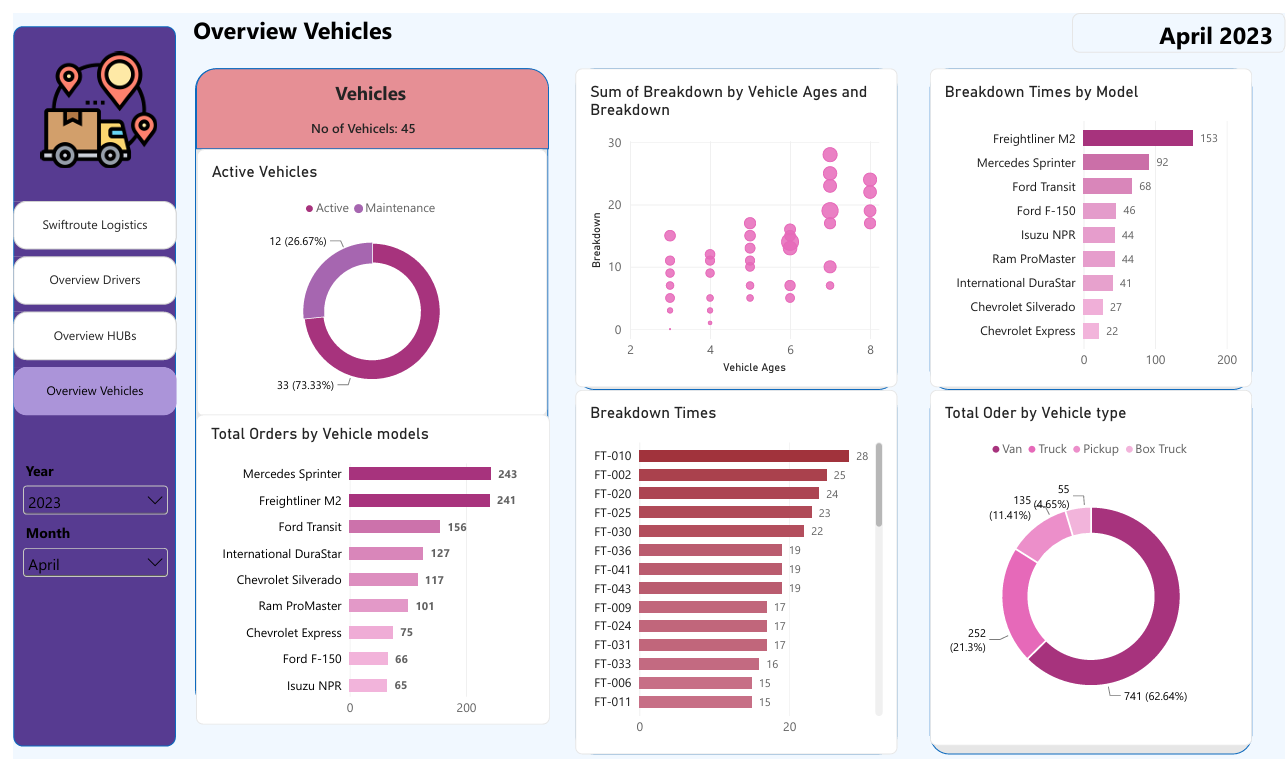

The dashboard page shown, as its layout file describes it:
{"tool":"powerbi","page":{"name":"Overview Vehicles","canvas":[1450,850],"ordinal":3},"visuals":[{"type":"textbox","box":[204.8,0,248.2,44.8],"z":1000},{"type":"cardVisual","fields":{"Data":["Measure.Year Month tilte"]},"box":[1206.3,0,244.1,45.1],"z":4000},{"type":"group","id":"g1","title":"Group 1","box":[205.7,62.9,404.7,747.3],"z":5000},{"type":"shape","title":"Experience & Rating","box":[640,62.9,367.1,365.7],"z":6000},{"type":"shape","title":"Experience & Rating","box":[1044.3,62.9,367.1,365.7],"z":7000},{"type":"shape","title":"Experience & Rating","box":[640,428.6,367.1,415.7],"z":8000},{"type":"shape","title":"Experience & Rating","box":[1044.3,428.6,367.1,415.7],"z":9000},{"type":"scatterChart","fields":{"Size":["Sum(Vehicles.Breakdown)"],"X":["Vehicles.Vehicle Ages"],"Y":["Vehicles.Breakdown"]},"box":[640,62.9,367.1,362.9],"z":10000},{"type":"clusteredBarChart","title":"Breakdown Times","fields":{"Category":["Vehicles.Vehicle Code"],"Y":["Sum(Vehicles.Breakdown)"]},"box":[640,428.6,367.1,415.7],"z":11000},{"type":"shape","title":"Experience & Rating","box":[207.1,62.9,401.9,730.7],"z":12000,"group":"g1"},{"type":"clusteredBarChart","title":"Breakdown Times by Model","fields":{"Category":["Vehicles.Vehicle Model"],"Y":["Sum(Vehicles.Breakdown)"]},"box":[1044.3,62.9,367.1,362.9],"z":12000},{"type":"donutChart","title":"Total Oder by Vehicle type","fields":{"Category":["Orders.Vehicle Type"],"Y":["Measure.delivered orders"]},"box":[1044.3,428.6,367.1,405.7],"z":13000},{"type":"shape","box":[0,14.9,185,820],"z":13001},{"type":"slicer","fields":{"Values":["Date.Year"]},"box":[5.7,510,174.9,71.9],"z":13002},{"type":"slicer","fields":{"Values":["Date.Month"]},"box":[5.7,581.4,174.9,71.9],"z":13003},{"type":"pageNavigator","box":[0,214.3,185.7,244.3],"z":13004},{"type":"image","box":[14.3,44.3,165.7,132.9],"z":13005},{"type":"shape","box":[208,63.2,401.9,91.7],"z":18000,"group":"g1"},{"type":"textbox","box":[205.7,75.4,402,34.5],"z":19000,"group":"g1"},{"type":"cardVisual","fields":{"Data":["Measure.No of Vehicles"]},"box":[323,108.3,173.1,45.4],"z":20000,"group":"g1"},{"type":"donutChart","title":"Active Vehicles","fields":{"Series":["Vehicles.Vehicle Status"],"Y":["CountNonNull(Vehicles.Vehicle ID)"]},"box":[208.6,155.4,399.1,304],"z":21000,"group":"g1"},{"type":"clusteredBarChart","title":"Total Orders by Vehicle models","fields":{"Category":["Vehicles.Vehicle Model"],"Y":["Measure.Total Orders"]},"box":[207.5,457.4,402.9,352.9],"z":22000,"group":"g1"}]}

Visuals, with their boxes in screenshot pixels (x1, y1, x2, y2), scaled from the page's 1450x850 canvas onto the 1287x762 screenshot:
textbox: detection(182, 0, 402, 40)
cardVisual - Measure.Year Month tilte: detection(1071, 0, 1286, 40)
"Group 1" group: detection(183, 56, 542, 726)
"Experience & Rating" shape: detection(568, 56, 894, 384)
"Experience & Rating" shape: detection(927, 56, 1253, 384)
"Experience & Rating" shape: detection(568, 384, 894, 757)
"Experience & Rating" shape: detection(927, 384, 1253, 757)
scatterChart - Sum(Vehicles.Breakdown) x Vehicles.Vehicle Ages: detection(568, 56, 894, 382)
"Breakdown Times" clusteredBarChart: detection(568, 384, 894, 757)
"Experience & Rating" shape: detection(184, 56, 541, 711)
"Breakdown Times by Model" clusteredBarChart: detection(927, 56, 1253, 382)
"Total Oder by Vehicle type" donutChart: detection(927, 384, 1253, 748)
shape: detection(0, 13, 164, 748)
slicer - Date.Year: detection(5, 457, 160, 522)
slicer - Date.Month: detection(5, 521, 160, 586)
pageNavigator: detection(0, 192, 165, 411)
image: detection(13, 40, 160, 159)
shape: detection(185, 57, 541, 139)
textbox: detection(183, 68, 539, 99)
cardVisual - Measure.No of Vehicles: detection(287, 97, 440, 138)
"Active Vehicles" donutChart: detection(185, 139, 539, 412)
"Total Orders by Vehicle models" clusteredBarChart: detection(184, 410, 542, 726)
